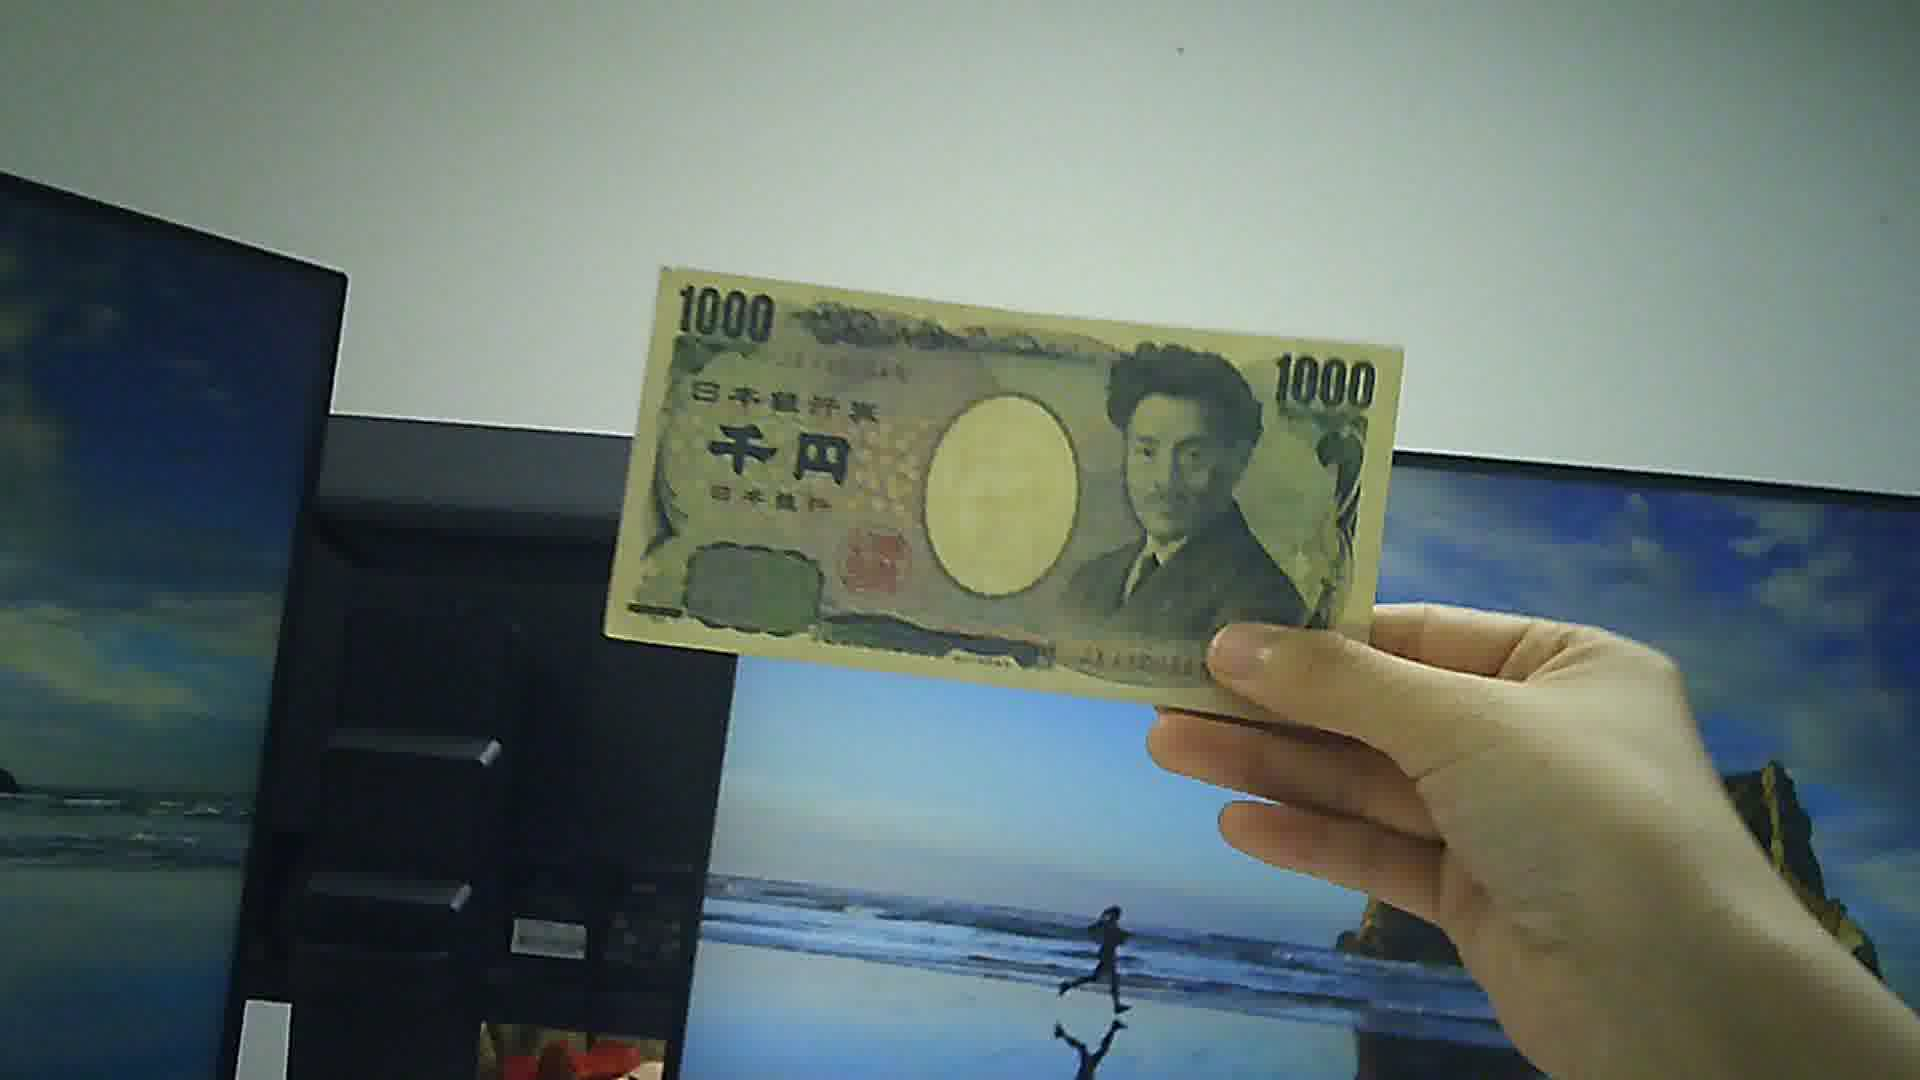1,000 Yen: (600, 258, 1406, 716)
